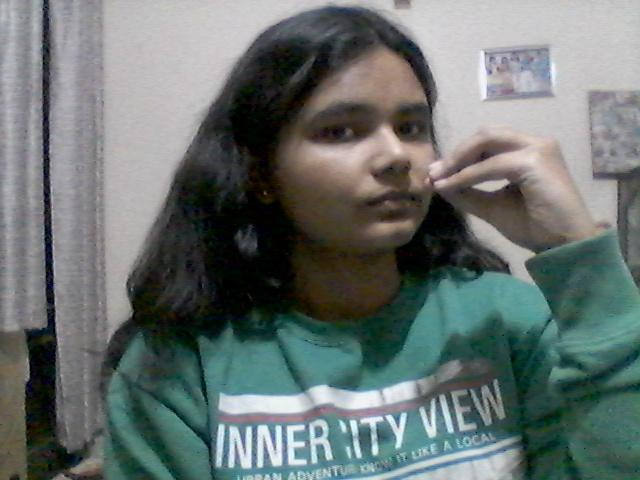eat: (420, 104, 628, 294)
